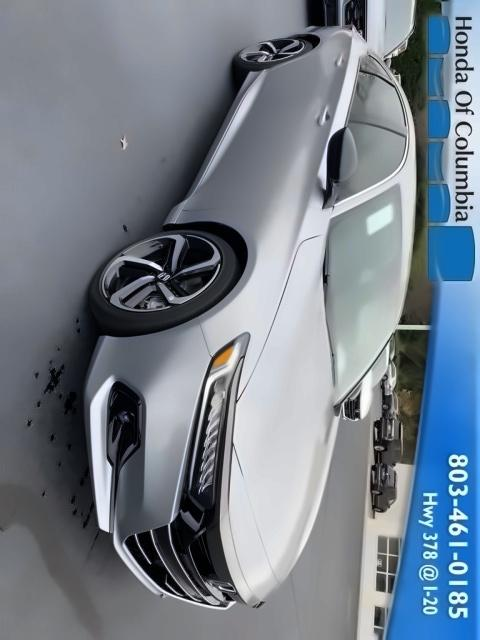Car hood: (219, 230, 346, 612)
Driver-s door - -F-R-: (194, 104, 414, 206)
Fender - -F-R-: (168, 205, 336, 392)
Fender - -R-R-: (251, 34, 360, 76)
Front bumper: (74, 314, 220, 618)
Headlight - -R-: (179, 328, 252, 517)
Passenger-s door - -R-R-: (243, 55, 412, 120)
Rear bumper: (281, 15, 336, 42)
Side bumper - -R-: (156, 59, 269, 231)
Side mirror - -L-: (336, 361, 383, 427)
Side mirror - -R-: (319, 120, 368, 214)
